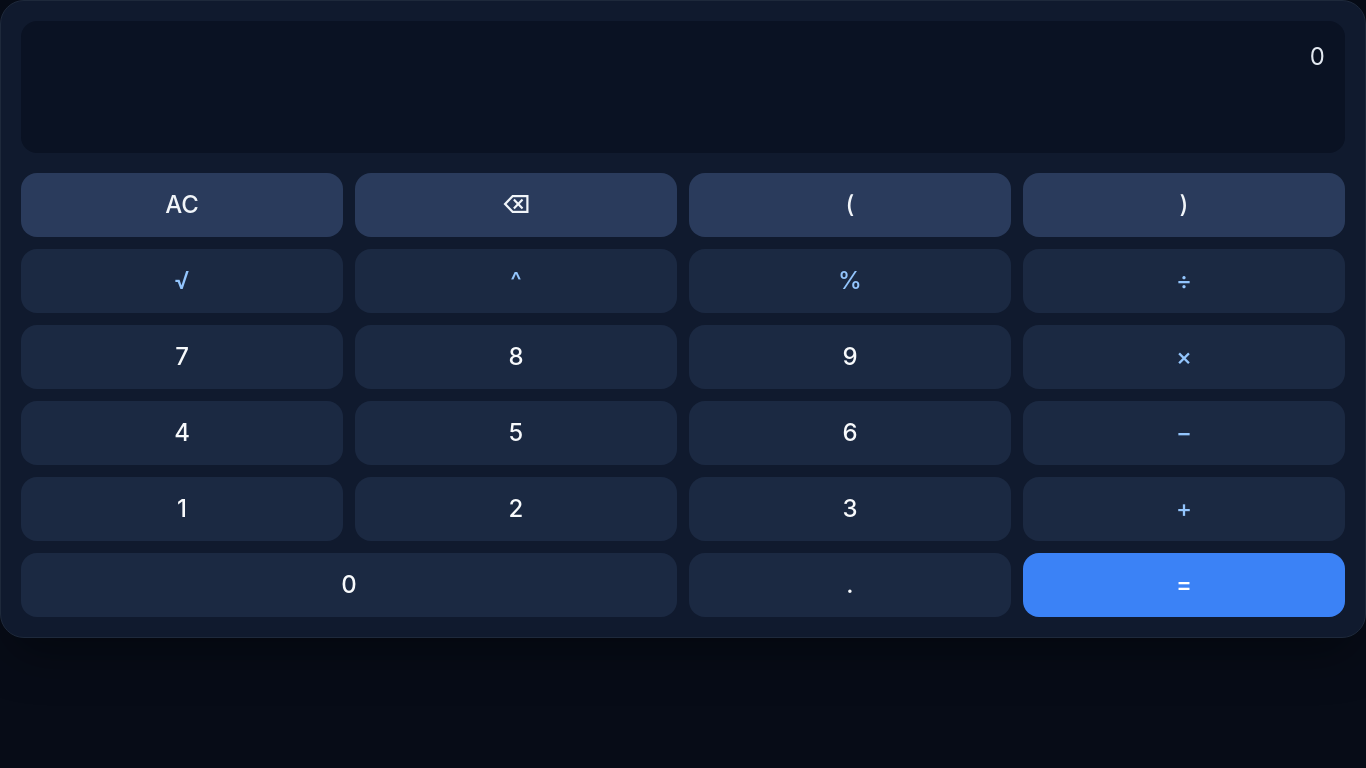
Test: Calculator › deletes the last symbol and clears everything
The width and height of the screenshot is (1366, 768).
Click the button named "Two" at (516,509), box [355,477,677,541]
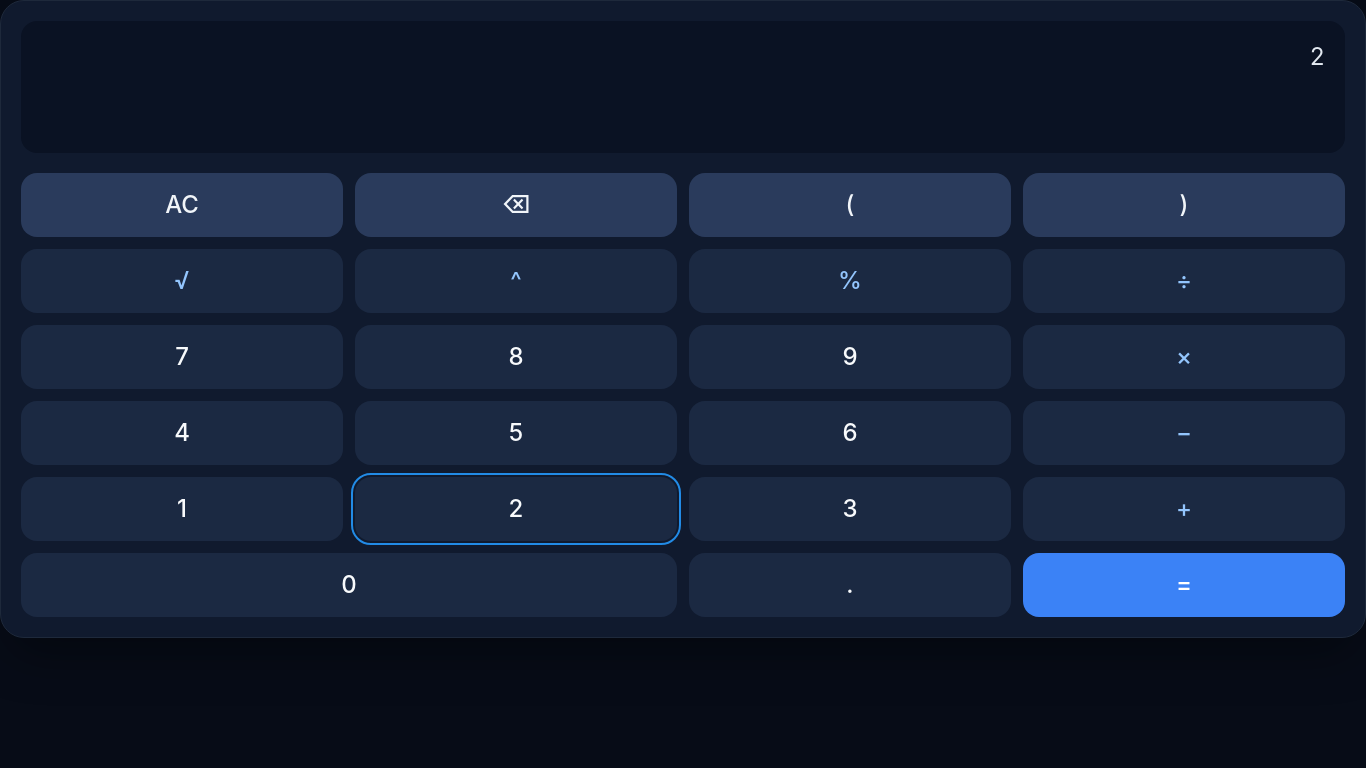
Click the button named "Add" at (1184,509), box [1023,477,1345,541]
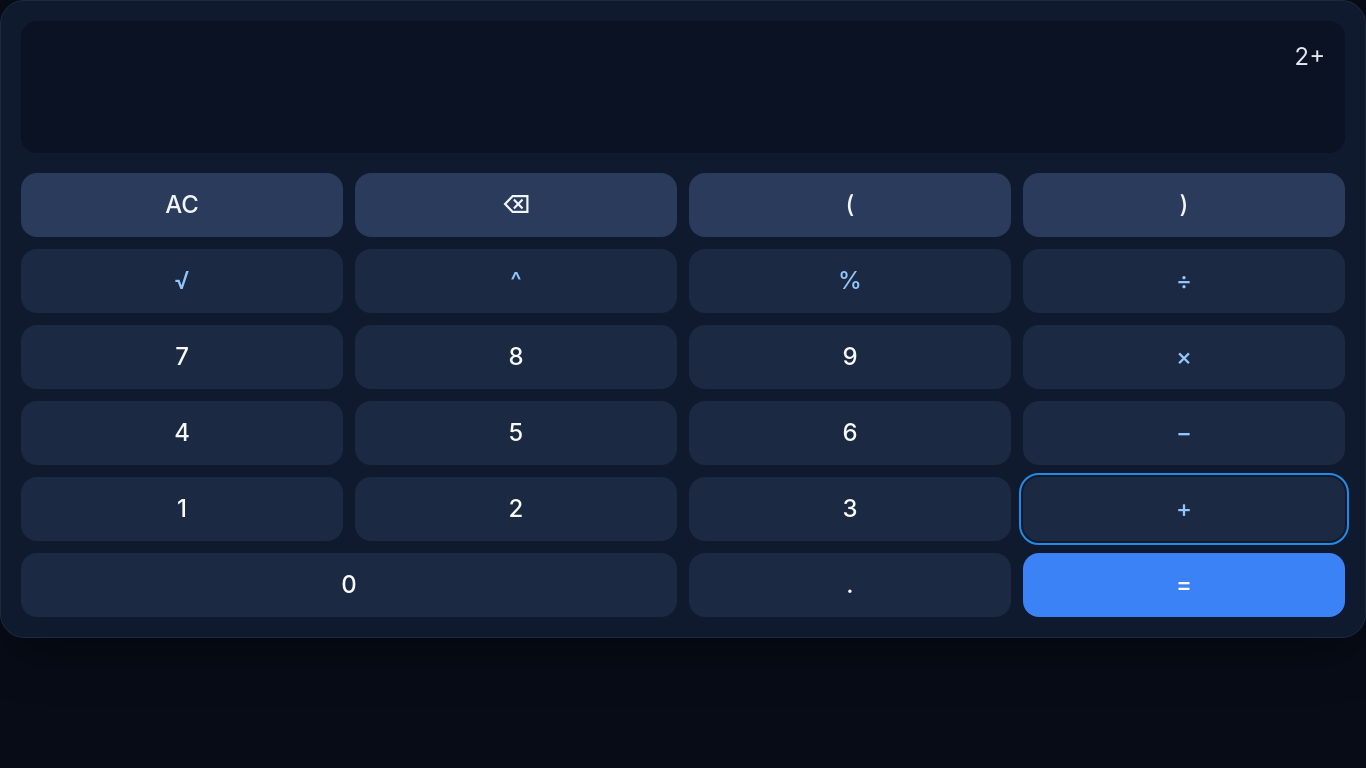
Click the button named "Delete last symbol" at (516,205), box [355,173,677,237]
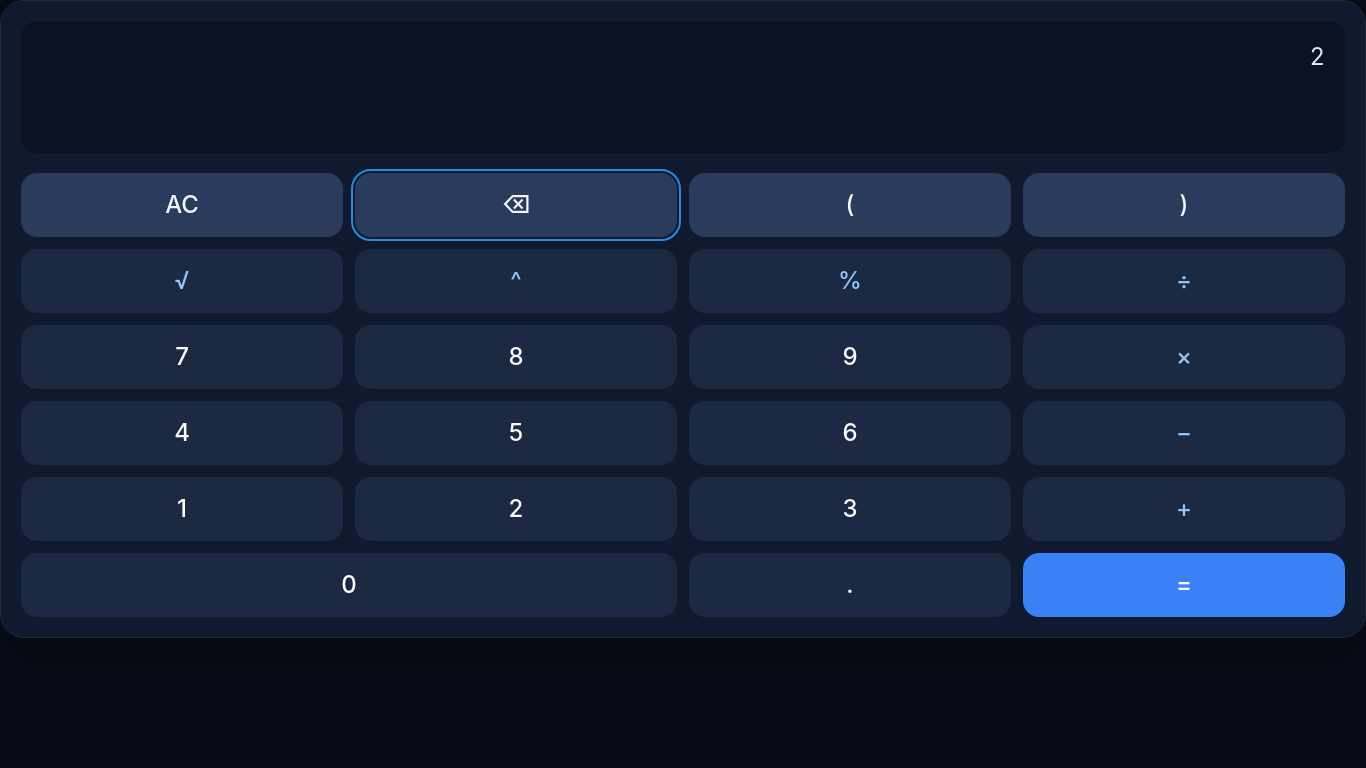
Check: the element named "Expression" reads "2", box [1309,42,1325,71]
Click the button with aria-label "Clear all" at (182,205), box [21,173,343,237]
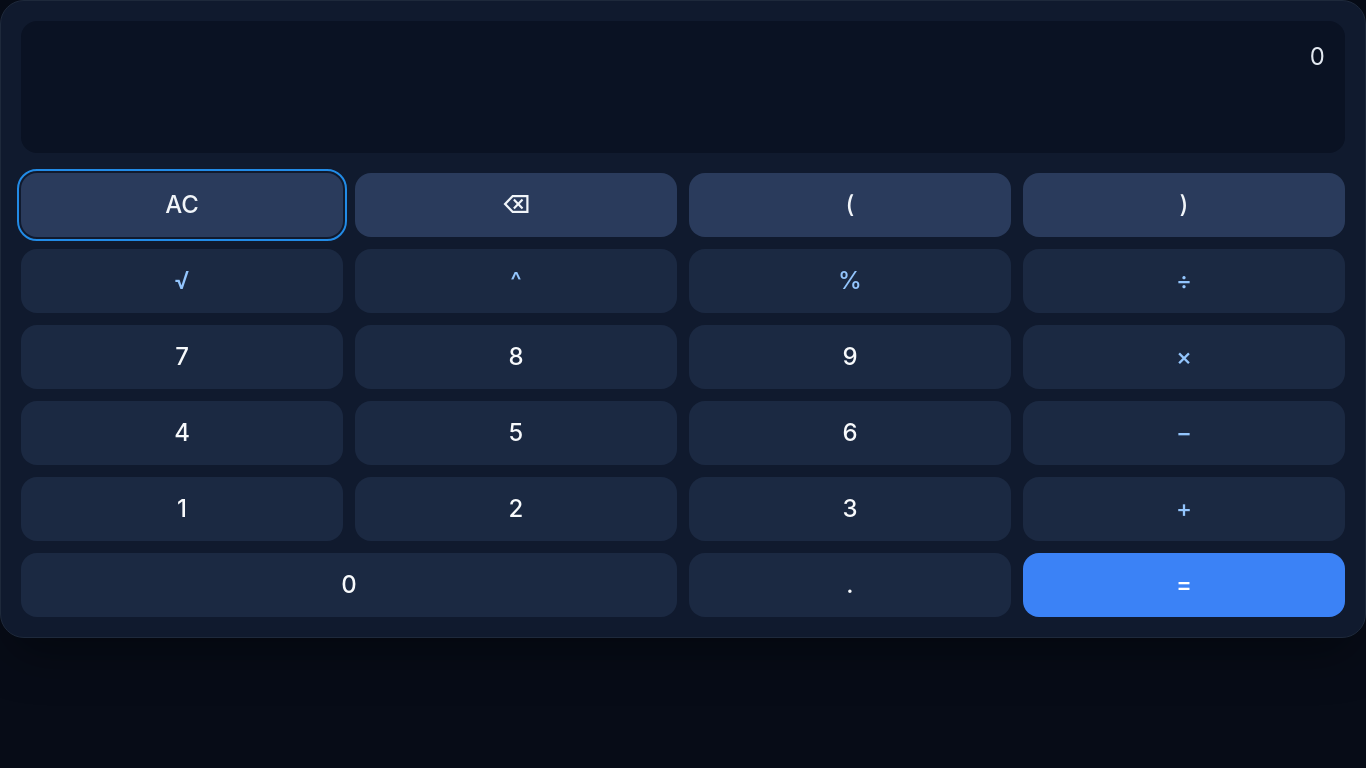
Check: the element named "Expression" reads "0", box [1309,42,1325,71]
